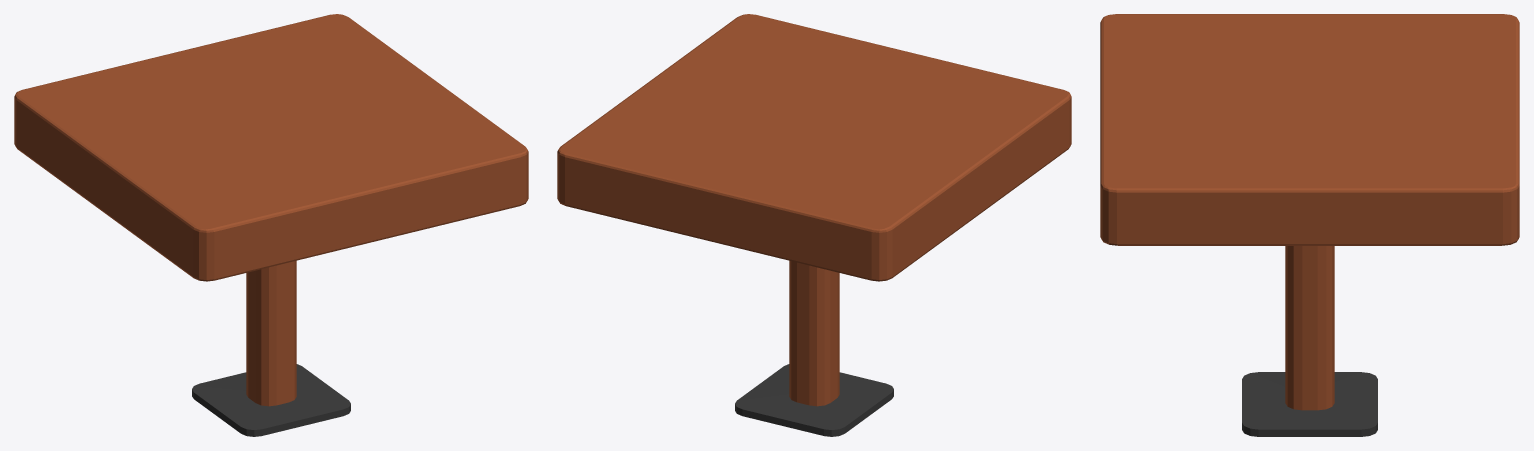
Rendered from japan_table.fbx.
3 renders of one model, left to right at view 1: azimuth 30°, elevation 25°; view 2: azimuth 150°, elevation 25°; view 3: azimuth 270°, elevation 25°, orthographic. The views are drawn at different scales.
Parts seen in each view (by area): view 1: table; view 2: table; view 3: table.
Part boxes in pixels (x1,y1,x2,y2): table: (14, 14, 528, 436); table: (557, 14, 1071, 436); table: (1100, 14, 1519, 436).
Size of the model in its own units: 85.3 by 68.92 by 85.3.
